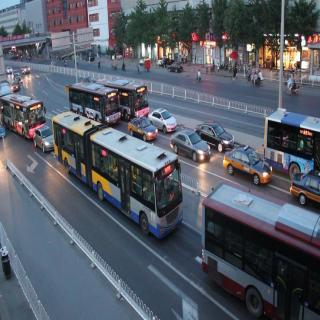BigCar: (51, 111, 187, 240), (204, 180, 320, 320), (261, 102, 320, 178), (69, 82, 119, 125)
Car: (224, 143, 271, 186), (169, 127, 210, 165), (197, 120, 237, 150), (146, 104, 176, 131), (128, 115, 155, 142), (34, 126, 56, 154), (168, 60, 185, 75), (85, 50, 96, 63), (111, 52, 123, 62), (22, 64, 31, 77)
